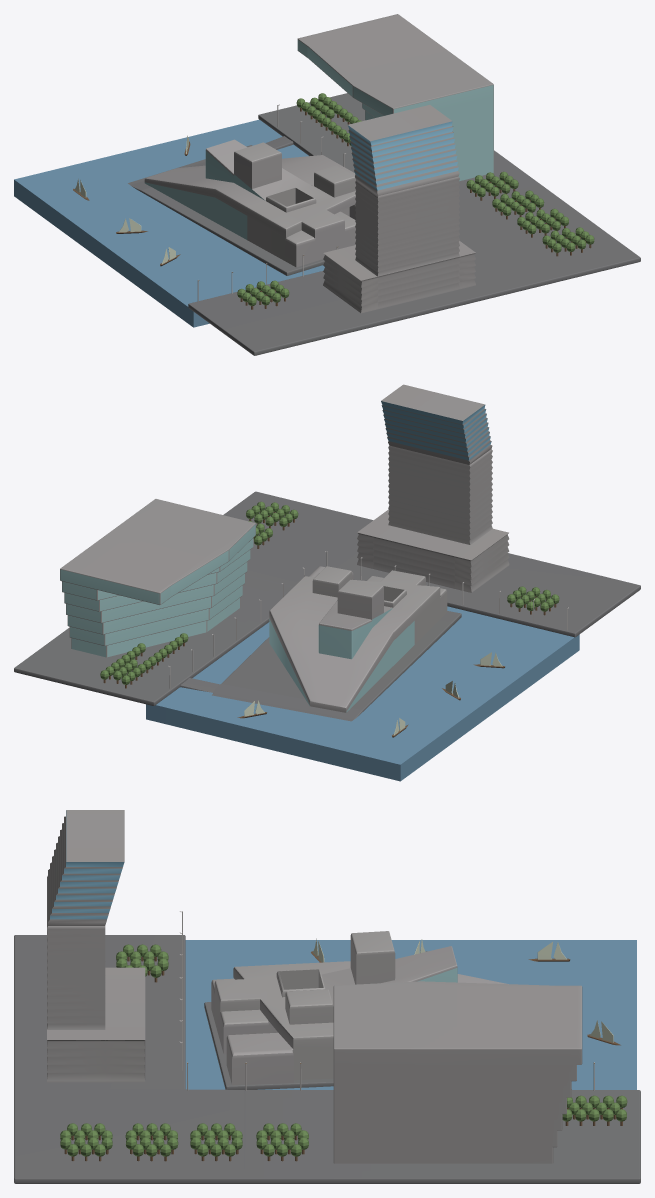
File: Oslo landmark.fbx
The picture shows the model from 3 angles, top to bottom: view 1: azimuth 30°, elevation 25°; view 2: azimuth 150°, elevation 25°; view 3: azimuth 270°, elevation 25°; orthographic projection. The views are drawn at different scales.
Parts seen in each view (by area): view 1: Street_lamp45; view 2: Street_lamp45; view 3: Street_lamp45.
Part boxes in pixels (<box>): Street_lamp45: <box>14,14,640,355</box>; Street_lamp45: <box>14,384,640,781</box>; Street_lamp45: <box>14,810,640,1183</box>.
Bounding box in the file's own units: 6.41 × 2.9 × 6.95.
